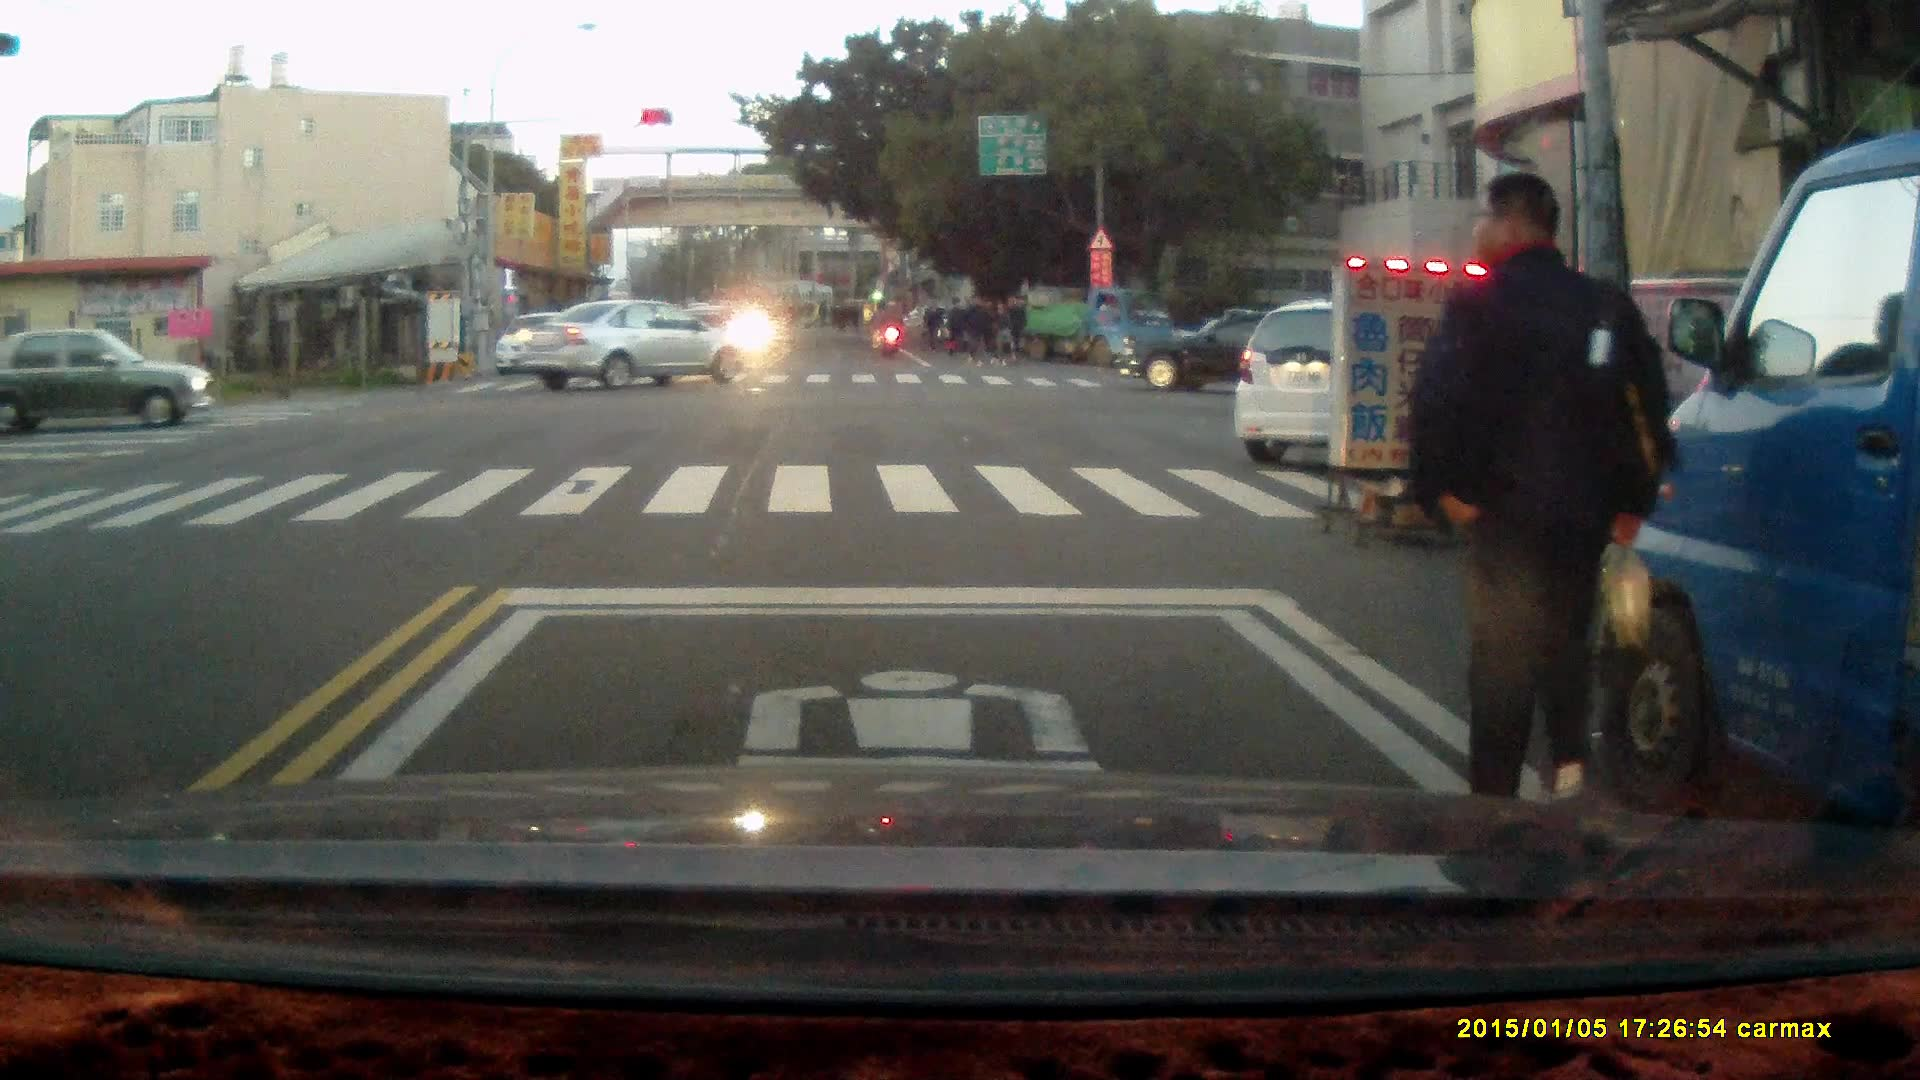pedestrian: (1408, 172, 1668, 834), (1000, 292, 1029, 370), (961, 290, 990, 367)
rider: (874, 298, 902, 359)
vehicle: (1598, 132, 1920, 846), (1233, 296, 1533, 459), (1, 327, 225, 436), (520, 299, 758, 394), (1126, 304, 1341, 393), (1002, 284, 1179, 367)
